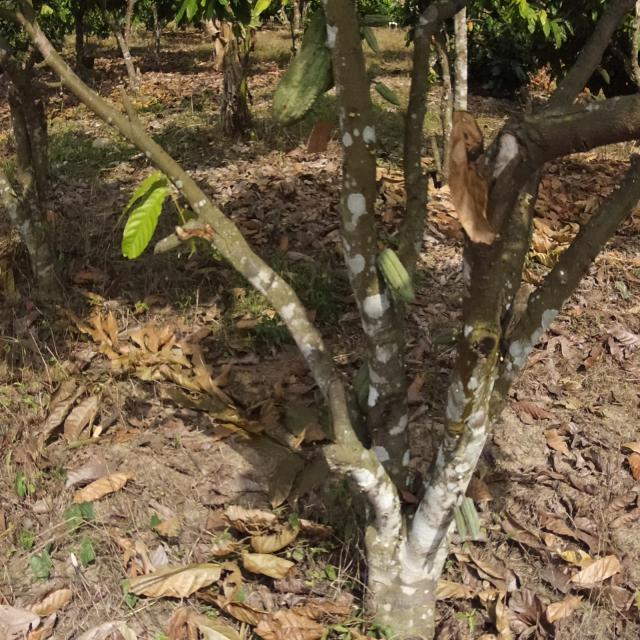Immature: (375, 236, 418, 312), (448, 494, 493, 548), (375, 79, 406, 112), (361, 23, 387, 57)
Mature_Unripe: (269, 34, 333, 126)
